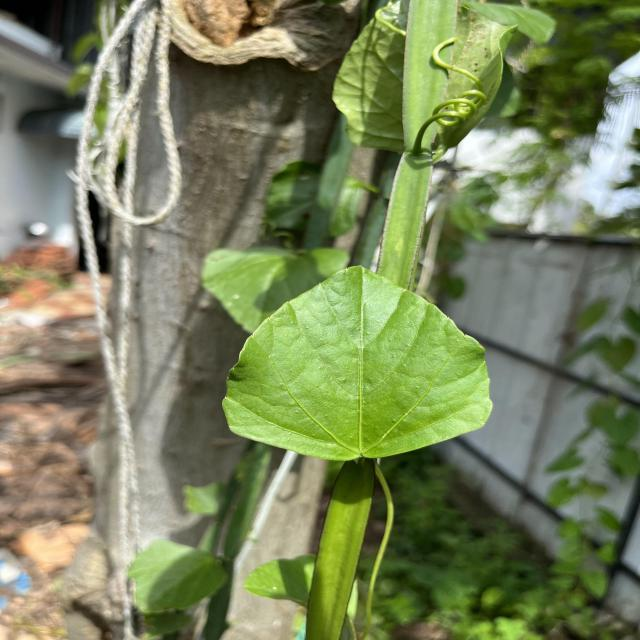Cissus quadrangularis: (217, 261, 497, 465)
